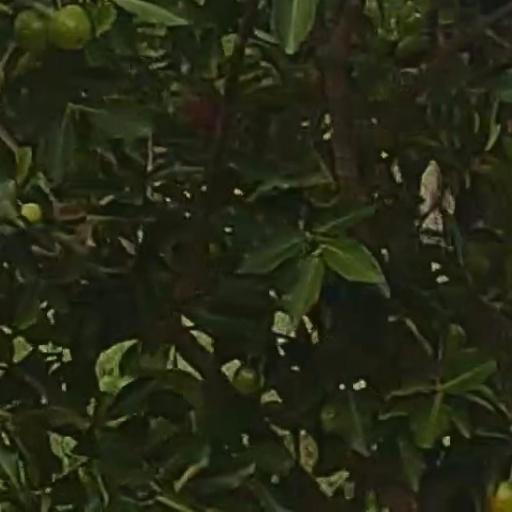acerola_verde: (53, 9, 90, 52), (15, 12, 51, 52), (234, 368, 268, 397)
